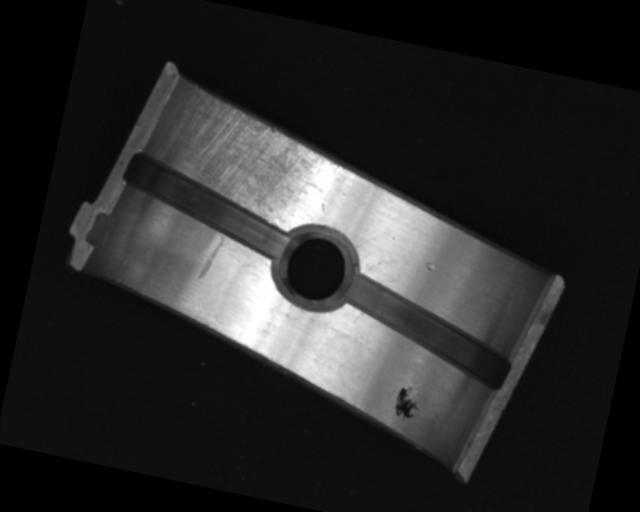blot: (390, 384, 425, 427)
bruise: (422, 261, 438, 272)
gap: (327, 269, 523, 394), (113, 149, 300, 263)
hole: (267, 219, 365, 313)
nick: (195, 229, 226, 284), (351, 225, 387, 255)
scratch: (150, 77, 339, 231)
